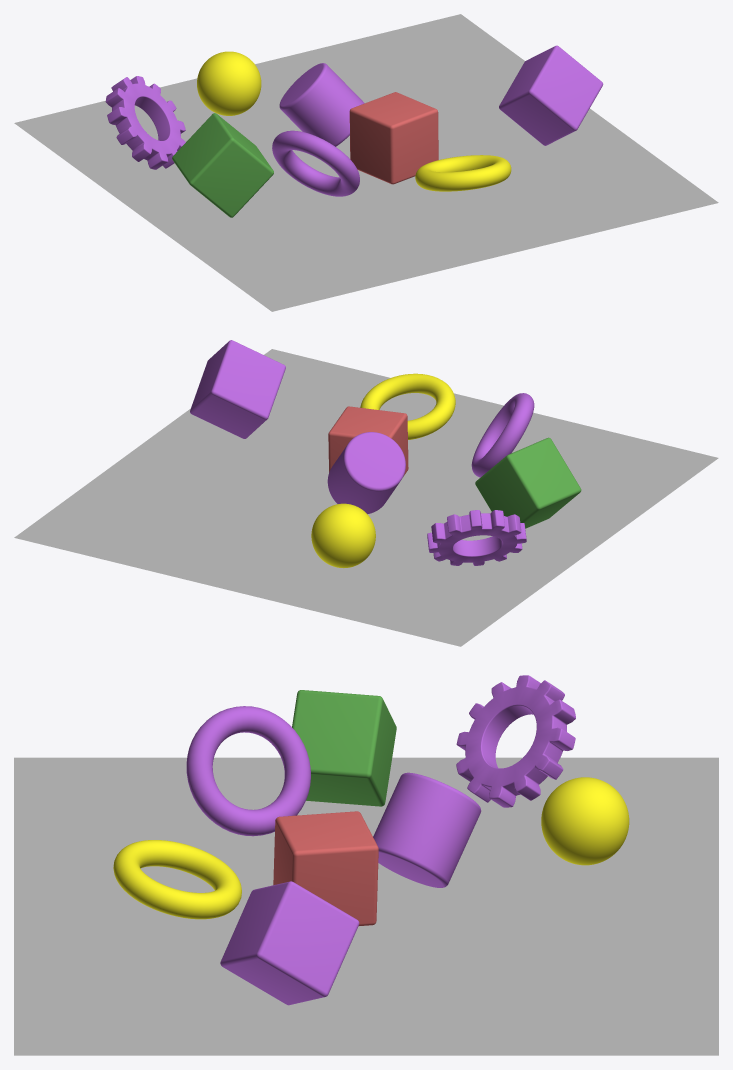
The picture shows the model from 3 angles, top to bottom: view 1: azimuth 30°, elevation 25°; view 2: azimuth 150°, elevation 25°; view 3: azimuth 270°, elevation 25°; orthographic projection. The views are drawn at different scales.
Visible parts, largest first — view 1: Cube, FileBasedObject.006, FileBasedObject, FileBasedObject.002, FileBasedObject.001, FileBasedObject.005, FileBasedObject.004, FileBasedObject.007, FileBasedObject.003; view 2: Cube, FileBasedObject, FileBasedObject.002, FileBasedObject.005, FileBasedObject.001, FileBasedObject.007, FileBasedObject.003, FileBasedObject.004, FileBasedObject.006; view 3: Cube, FileBasedObject, FileBasedObject.002, FileBasedObject.001, FileBasedObject.006, FileBasedObject.005, FileBasedObject.004, FileBasedObject.003, FileBasedObject.007.
Part boxes in pixels (x1,y1,x2,y2): Cube: (14, 14, 718, 311); FileBasedObject.006: (349, 92, 438, 184); FileBasedObject: (499, 45, 603, 145); FileBasedObject.002: (172, 113, 273, 217); FileBasedObject.001: (105, 76, 185, 169); FileBasedObject.005: (279, 63, 364, 146); FileBasedObject.004: (272, 130, 359, 196); FileBasedObject.007: (197, 51, 261, 115); FileBasedObject.003: (415, 155, 511, 191); Cube: (14, 349, 718, 646); FileBasedObject: (190, 340, 285, 438); FileBasedObject.002: (475, 437, 581, 528); FileBasedObject.005: (327, 432, 405, 514); FileBasedObject.001: (427, 510, 526, 565); FileBasedObject.007: (311, 503, 375, 568); FileBasedObject.003: (360, 373, 455, 439); FileBasedObject.004: (471, 393, 534, 477); FileBasedObject.006: (328, 406, 408, 476); Cube: (14, 757, 718, 1055); FileBasedObject: (220, 881, 359, 1005); FileBasedObject.002: (292, 690, 396, 806); FileBasedObject.001: (456, 675, 575, 807); FileBasedObject.006: (273, 811, 378, 925); FileBasedObject.005: (373, 772, 481, 887); FileBasedObject.004: (186, 706, 310, 836); FileBasedObject.003: (113, 840, 241, 919); FileBasedObject.007: (541, 777, 629, 865).
Size of the model in its own units: 8 by 1.67 by 8.
